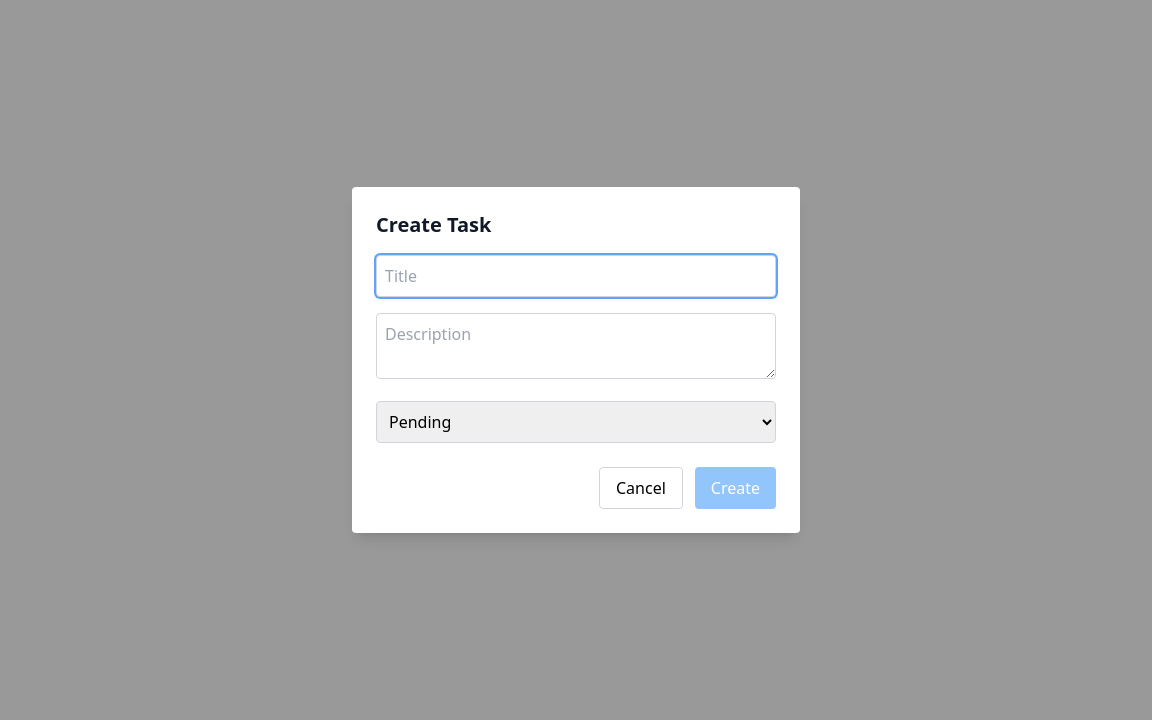
Test case: TaskModal › create mode › submit button is enabled when title and description are filled
Type "A" into the field with placeholder "Title".
click(576, 276); type("A")  # box [376,255,776,297]
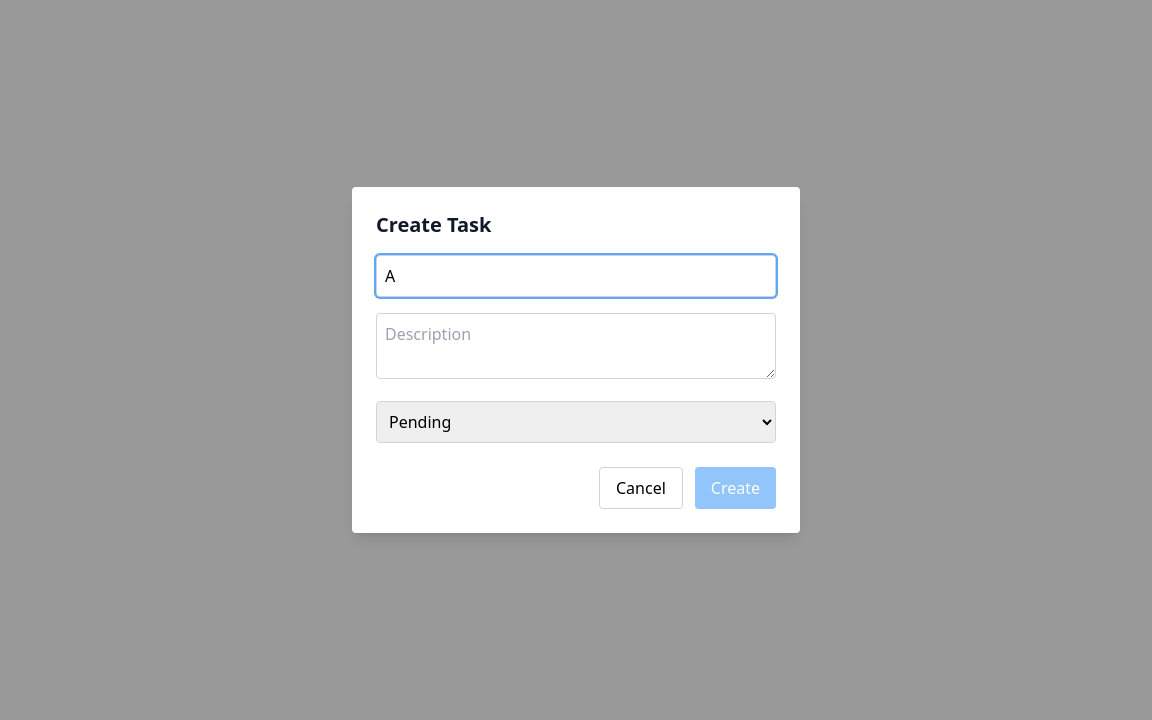
Type "B" into the text box with placeholder "Description".
click(576, 346); type("B")  # box [376,313,776,379]
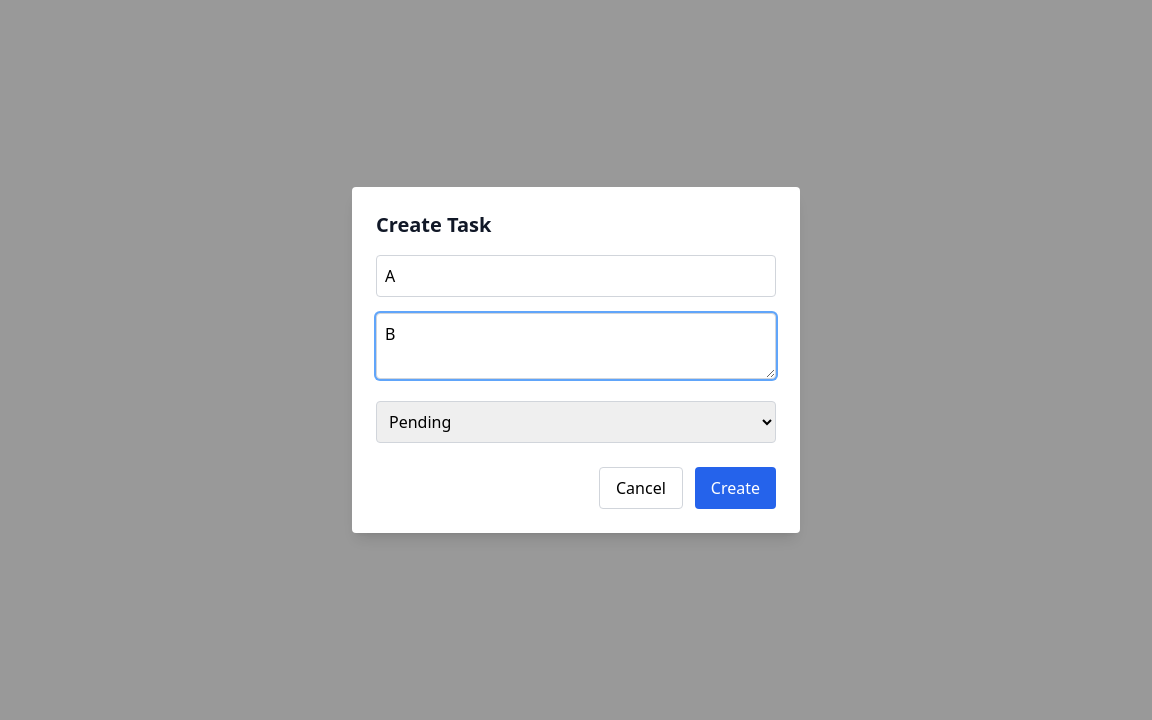
Check: the button "Create" is enabled, box [695,467,776,509]
